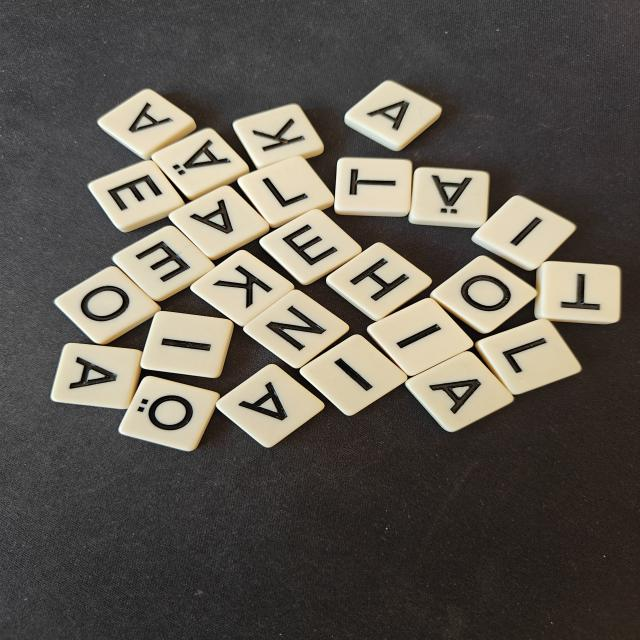a: (217, 364, 324, 447), (405, 351, 513, 432), (169, 186, 269, 260), (97, 89, 196, 160), (344, 80, 442, 151), (51, 343, 142, 409)
a_dot: (152, 128, 249, 200), (408, 167, 489, 228)
e: (113, 225, 214, 301), (260, 209, 361, 285), (88, 160, 183, 232)
h: (326, 242, 431, 321)
i: (300, 335, 407, 415), (367, 298, 473, 376), (472, 195, 576, 270), (141, 311, 234, 378)
k: (190, 250, 294, 326), (233, 103, 324, 169)
l: (475, 319, 581, 395), (238, 157, 334, 228)
n: (244, 290, 349, 368)
o: (54, 266, 160, 345), (430, 256, 536, 334)
o_dot: (119, 376, 220, 451)
t: (534, 261, 621, 324), (334, 158, 412, 217)
